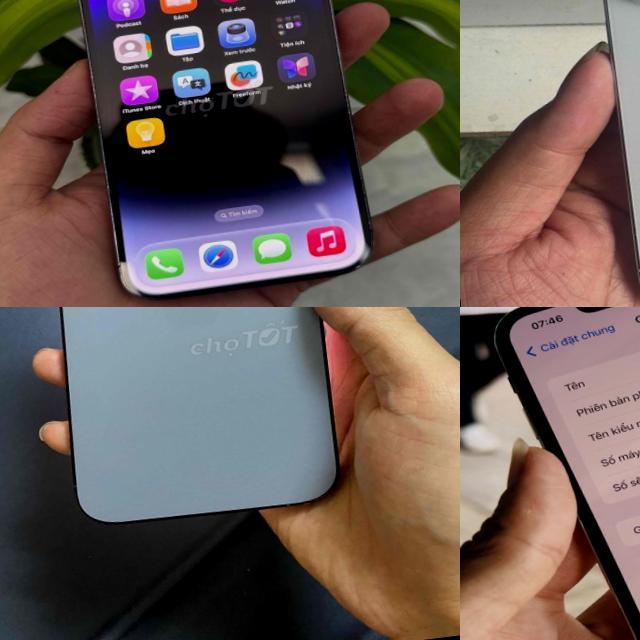gen_12_13: (24, 307, 368, 546)
gen_14: (55, 0, 388, 307), (568, 0, 640, 307)
gen_x_xs: (496, 307, 640, 640)
